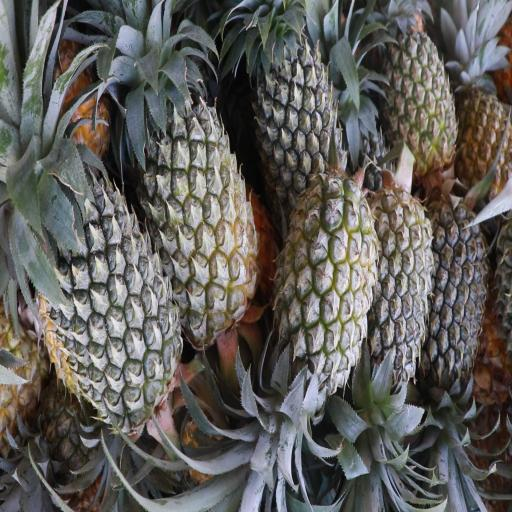------------------------------: (139, 87, 254, 324), (279, 173, 378, 383), (385, 30, 453, 175), (454, 47, 512, 200)
